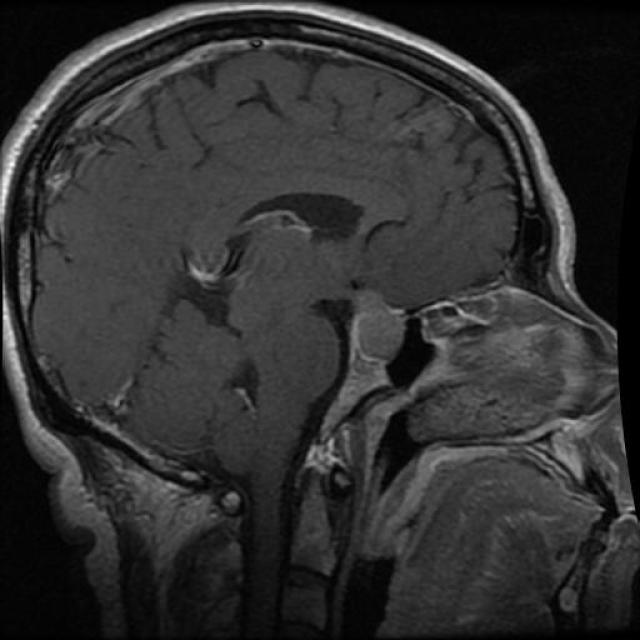pituitary: (335, 264, 418, 380)
